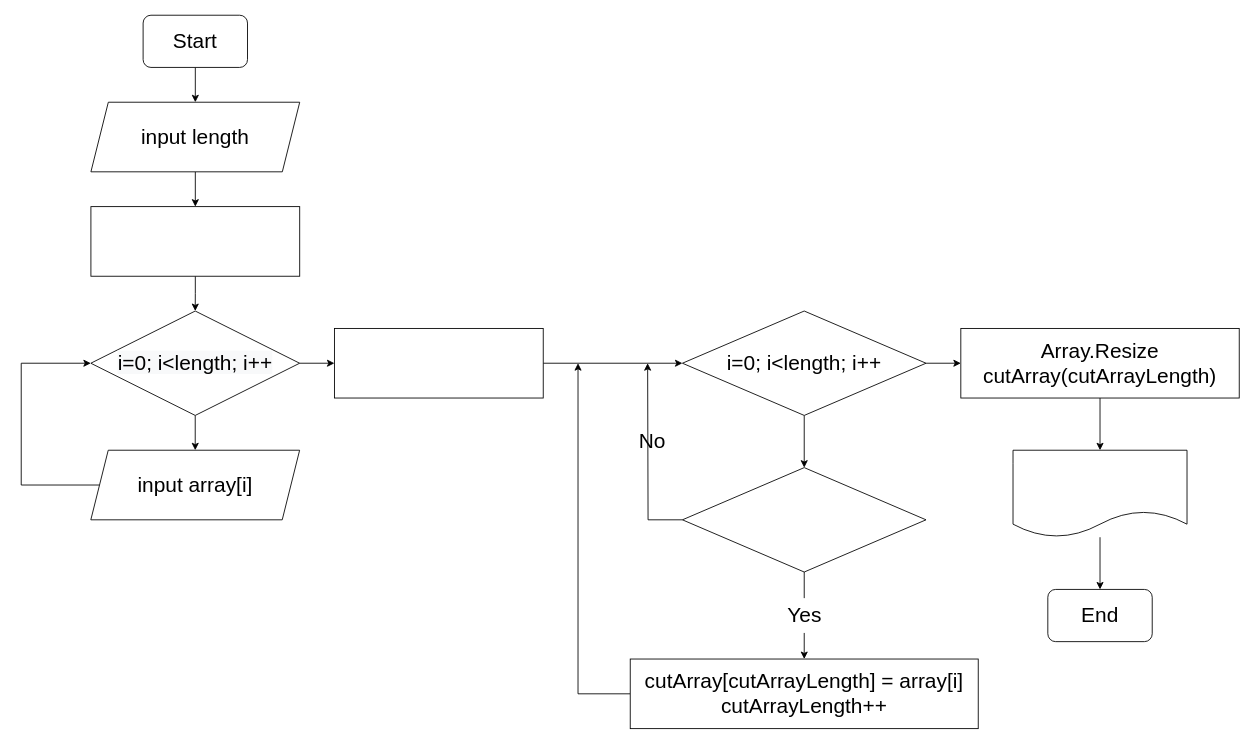
Some shapes in this 1255 by 744 pixel diagram are drawn without their labels. The shapes that lost their labels are listed below. From the top down, each one's centre as x and y in pixels, then its label:
At [195,241]: "array(length) cutArray(length)".
At [438,363]: "cutArrayLength = 0".
At [1099,493]: "Print array -> cutArray".
At [804,519]: "array[i].Length <= 3".
